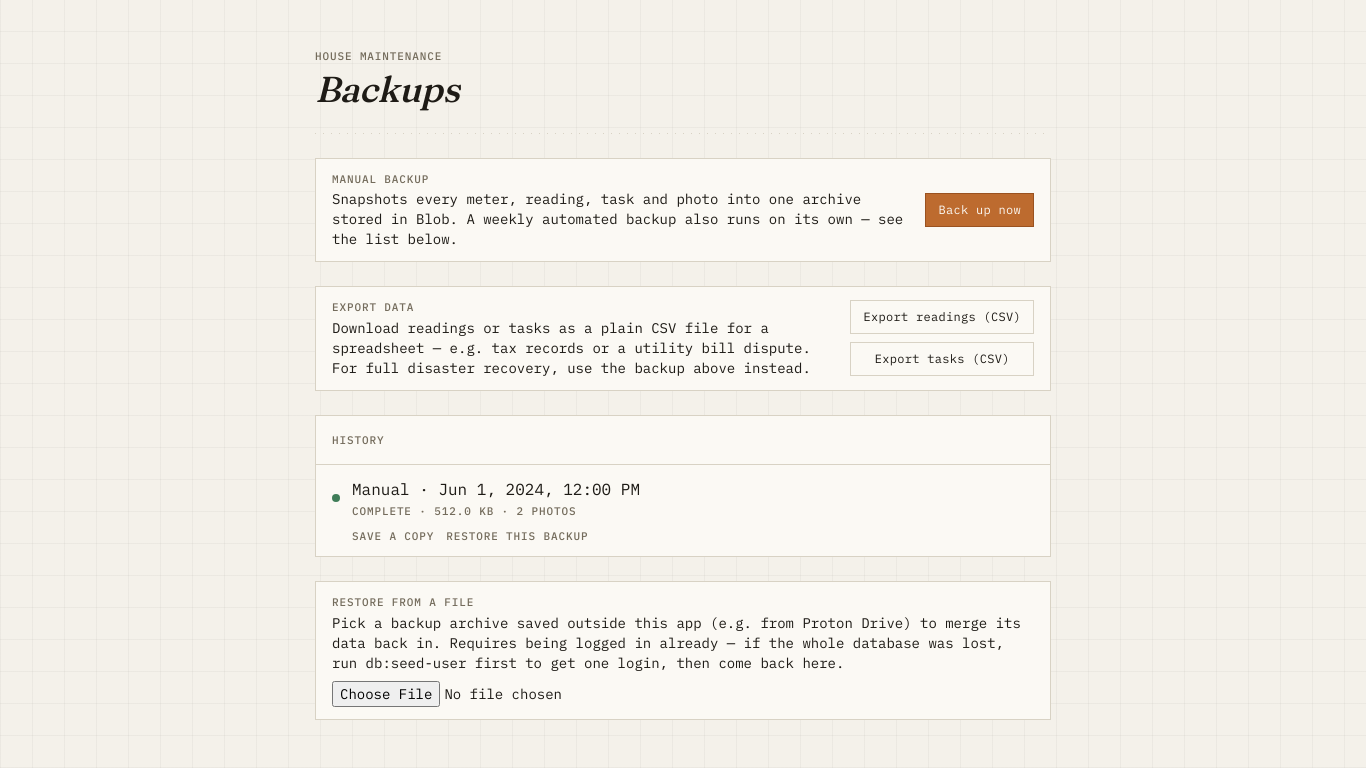
Test: Backups › flags newly created logins that still need a password after a restore
What coordinates should you click on to do the following:
click the button "Restore this backup"
I would click on:
 (517, 536)
Its box is [446,528,588,544].
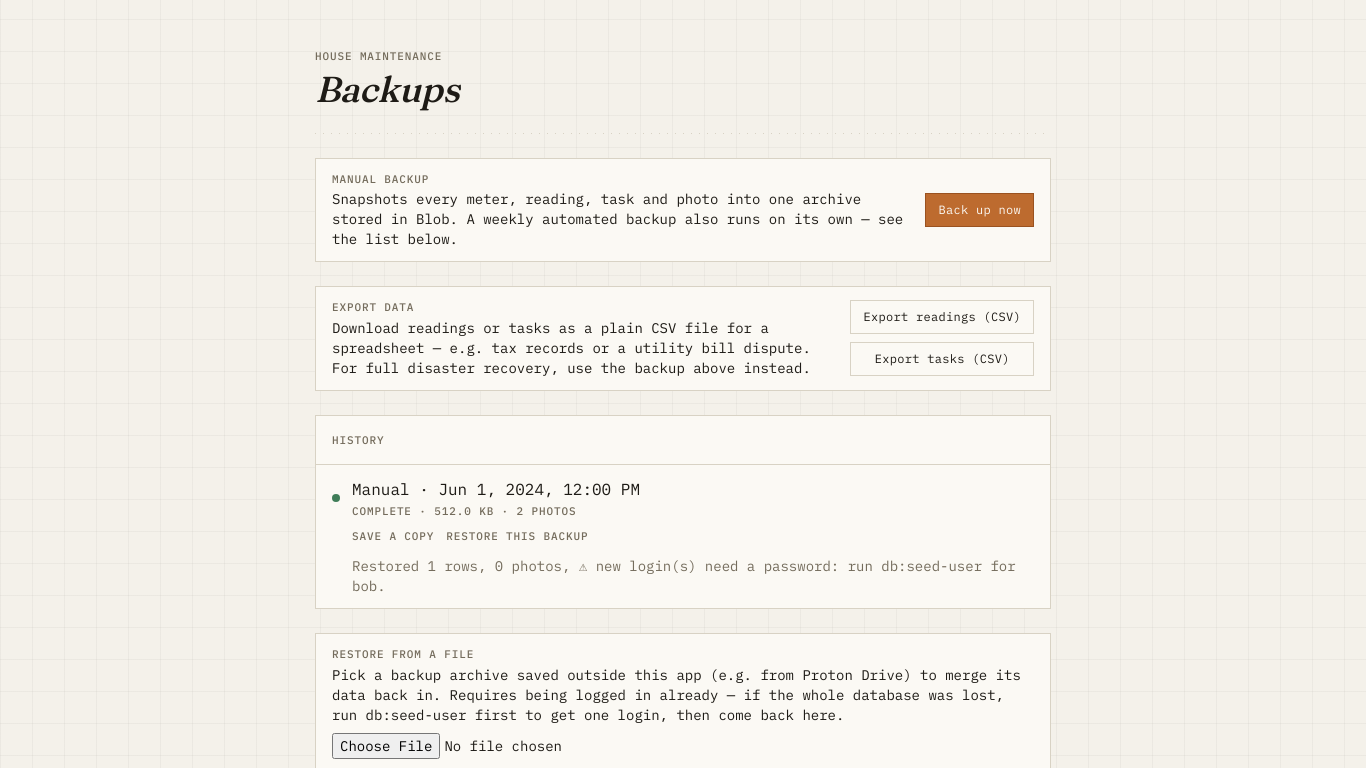
Check: the text "run db:seed-user for bob" is shown, box [352,557,1016,595]
